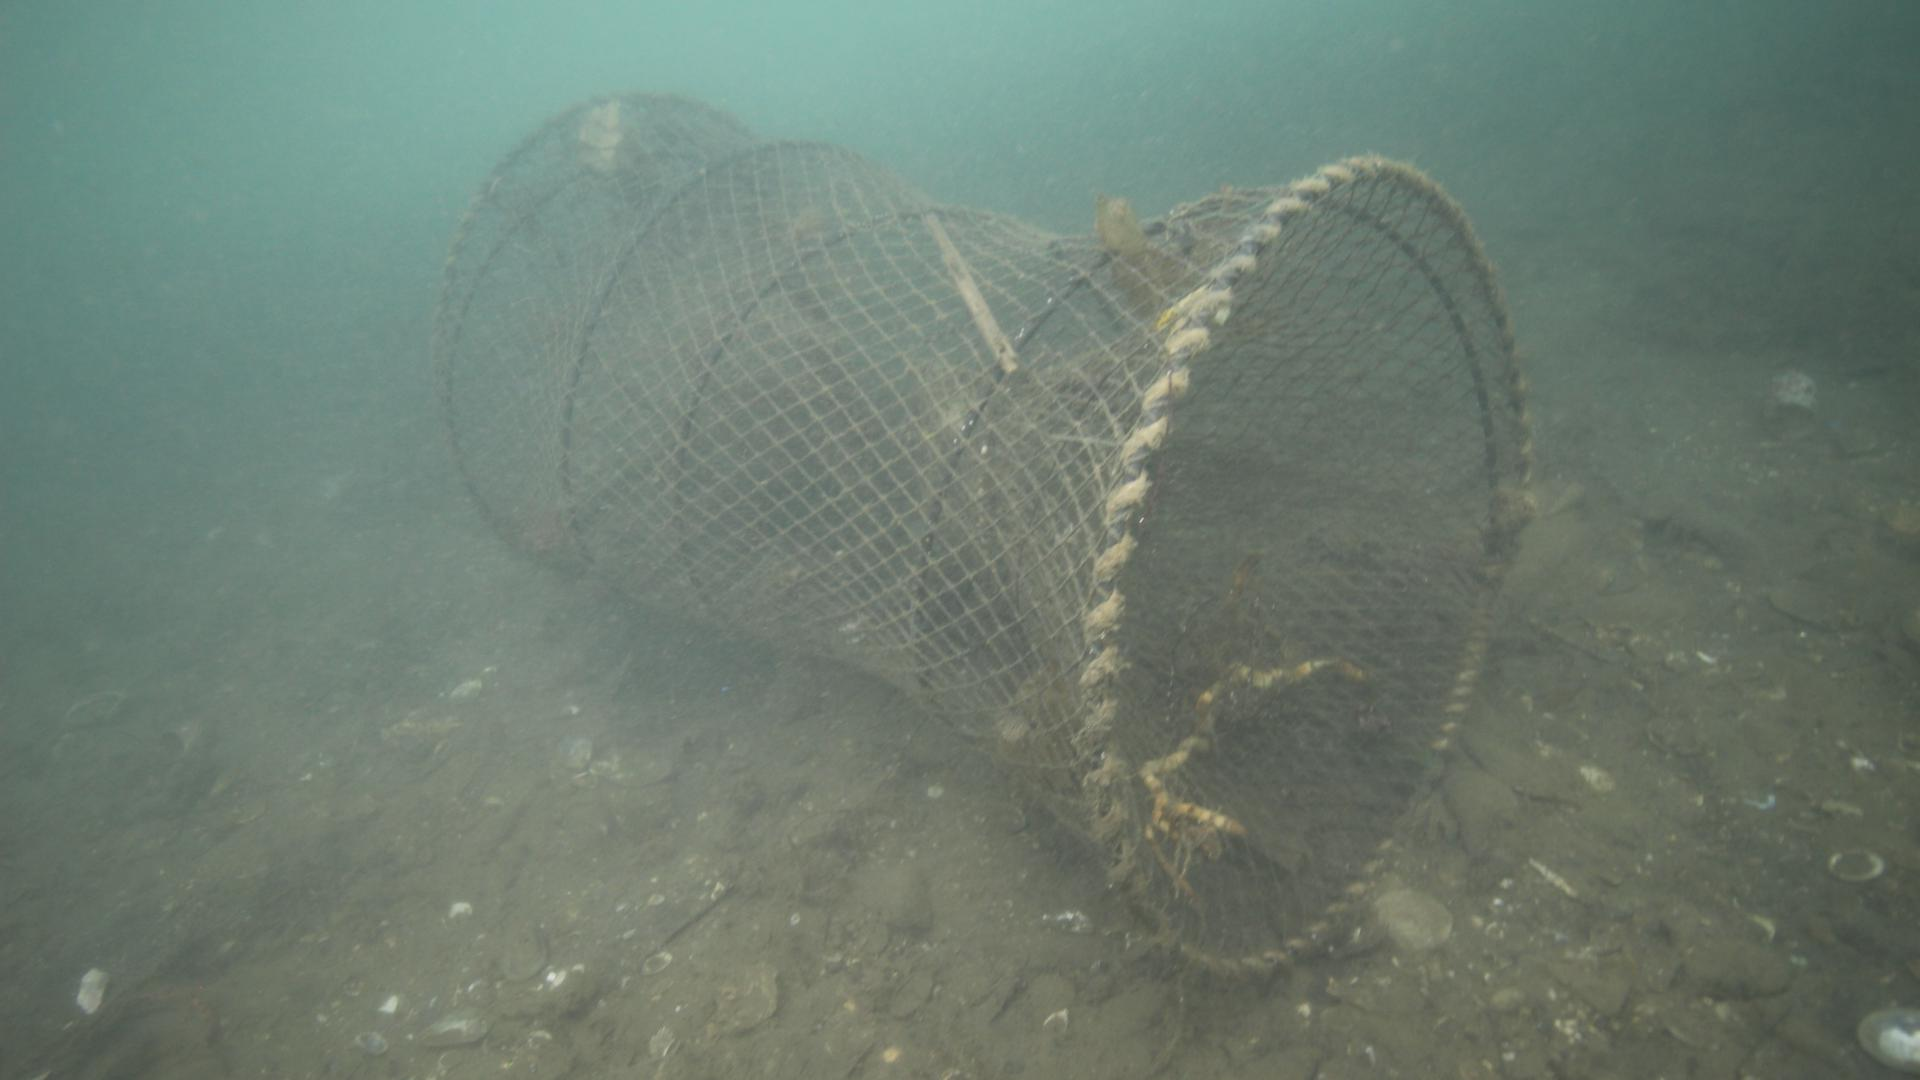spring fish trap: (434, 91, 1534, 978)
